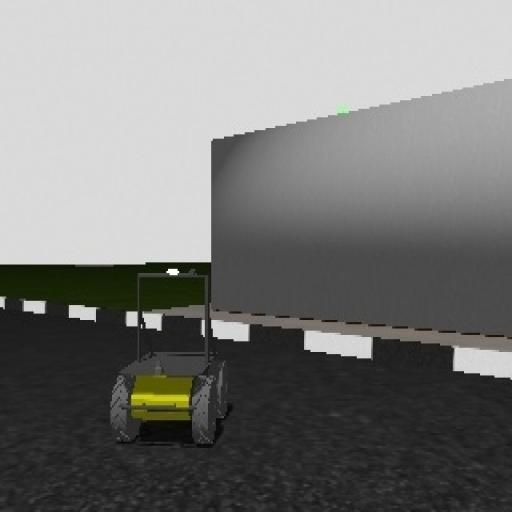huskya200: (96, 260, 233, 455)
